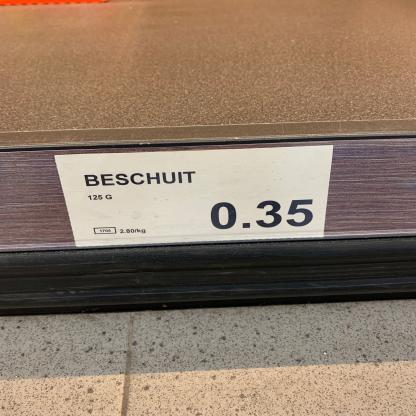prtg: (53, 147, 336, 250)
